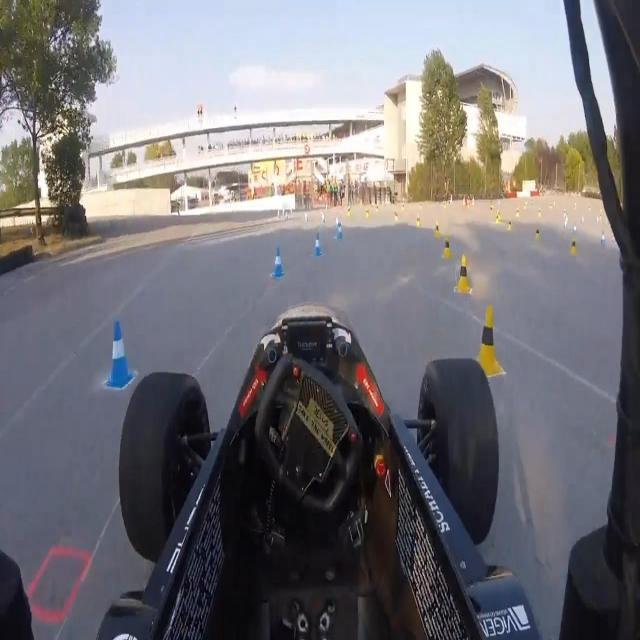blue_cone: (97, 313, 137, 381), (307, 224, 329, 272), (266, 247, 290, 284)
yellow_cone: (474, 309, 502, 385), (454, 251, 473, 291), (442, 224, 454, 265)
